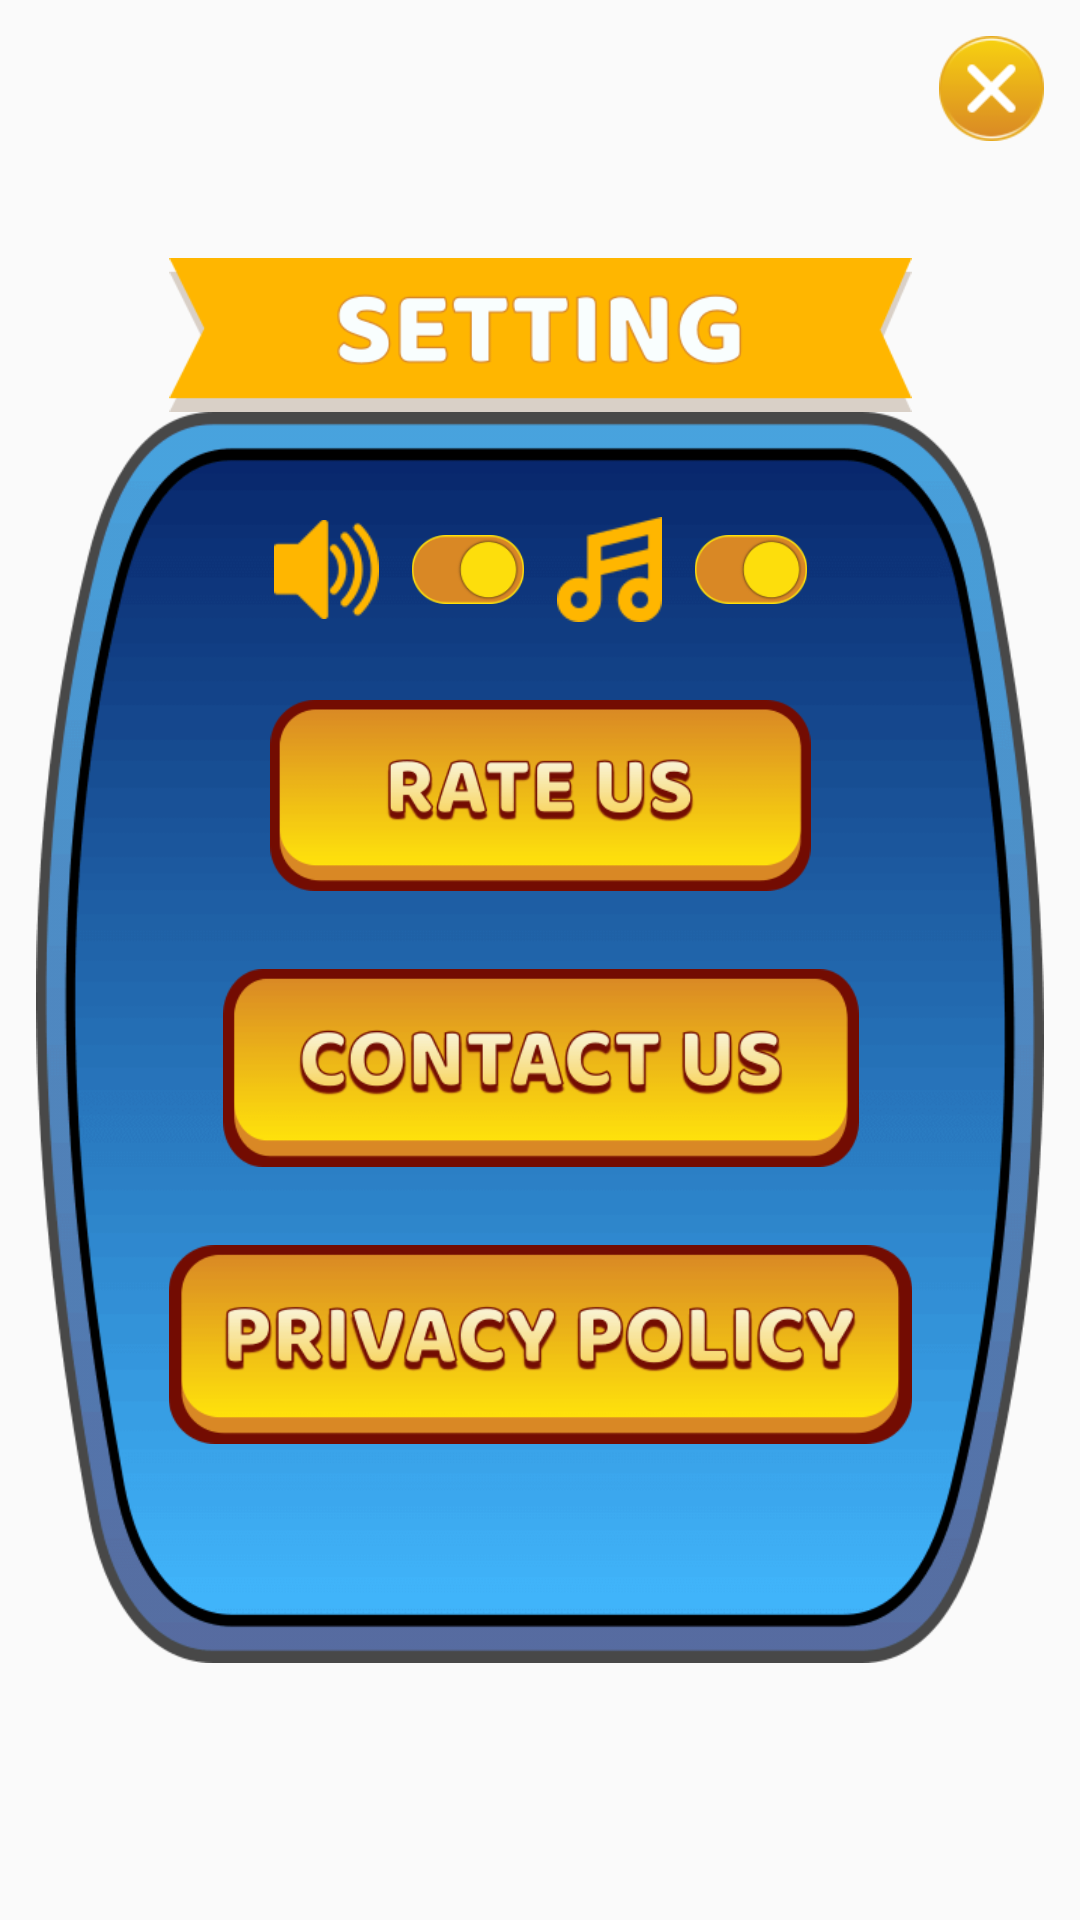

Where to tap for icons on this 1080w x 1920h app screen, as [x,y]:
close: [991,88]
music: [609,569]
sound: [326,569]
switch: [468,569], [751,569]
